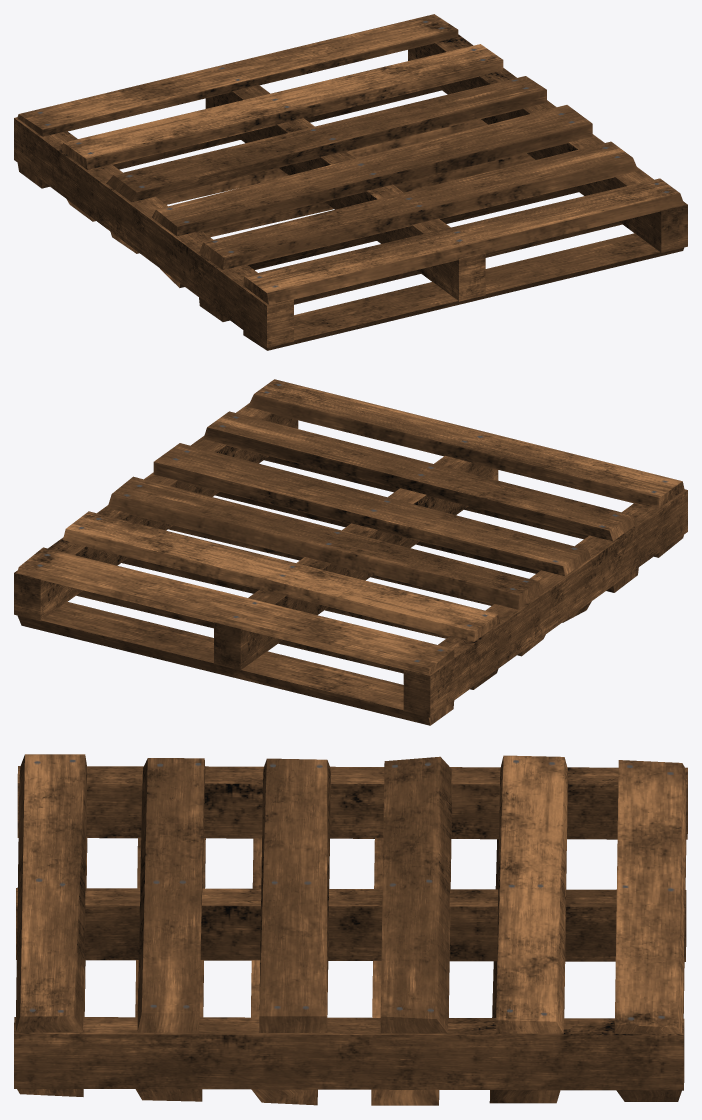
The model's file is 파렛트.fbx.
The picture shows the model from 3 angles, top to bottom: view 1: azimuth 30°, elevation 25°; view 2: azimuth 150°, elevation 25°; view 3: azimuth 270°, elevation 25°; orthographic projection. The views are drawn at different scales.
Visible parts, largest first — view 1: 팔레트판002; view 2: 팔레트판002; view 3: 팔레트판002.
Boxes of the visible parts, x1,y1,x2,y2 form: 팔레트판002: [14, 14, 687, 350]; 팔레트판002: [14, 379, 687, 725]; 팔레트판002: [14, 754, 687, 1105].
Size of the model in its own units: 122 by 18.78 by 129.
Materials: 1 (1 with a texture image).
